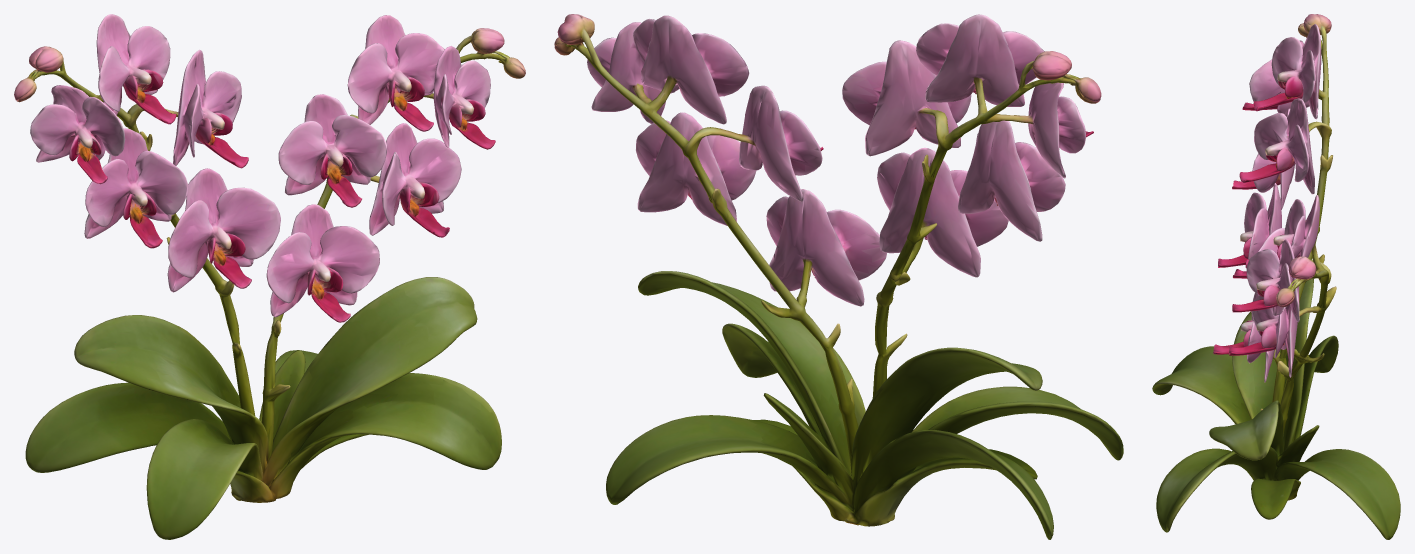
The model's file is phalaenopsis-new.glb.
3 renders of one model, left to right at view 1: azimuth 30°, elevation 25°; view 2: azimuth 150°, elevation 25°; view 3: azimuth 270°, elevation 25°, orthographic. The views are drawn at different scales.
Visible parts, largest first — view 1: Top_tripo_node_9be1a2f1, Base_tripo_node_9be1a2f1; view 2: Top_tripo_node_9be1a2f1, Base_tripo_node_9be1a2f1; view 3: Top_tripo_node_9be1a2f1, Base_tripo_node_9be1a2f1.
Part boxes in pixels (x1,y1,x2,y2): Top_tripo_node_9be1a2f1: (14,14,525,351); Base_tripo_node_9be1a2f1: (25,277,501,539); Top_tripo_node_9be1a2f1: (554,14,1101,354); Base_tripo_node_9be1a2f1: (606,271,1123,539); Top_tripo_node_9be1a2f1: (1213,14,1336,382); Base_tripo_node_9be1a2f1: (1152,278,1400,539).
Size of the model in its own units: 1.37 by 1.3 by 0.7038.
1 material, 1 textured.
